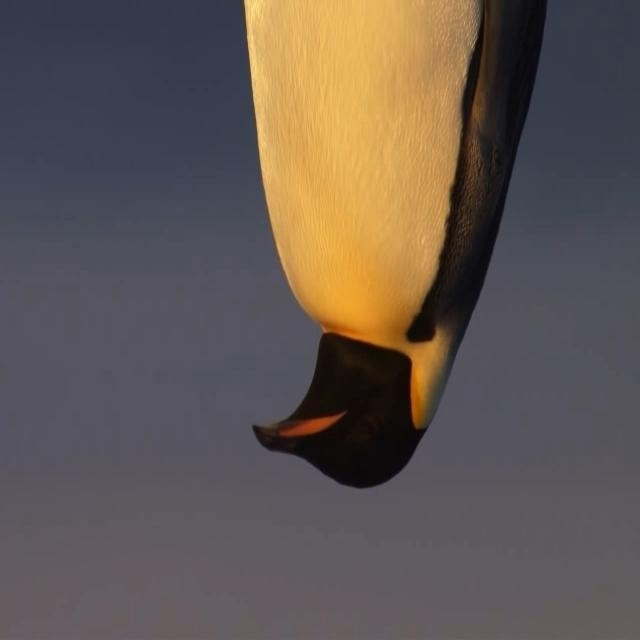penguin: (240, 1, 549, 490)
